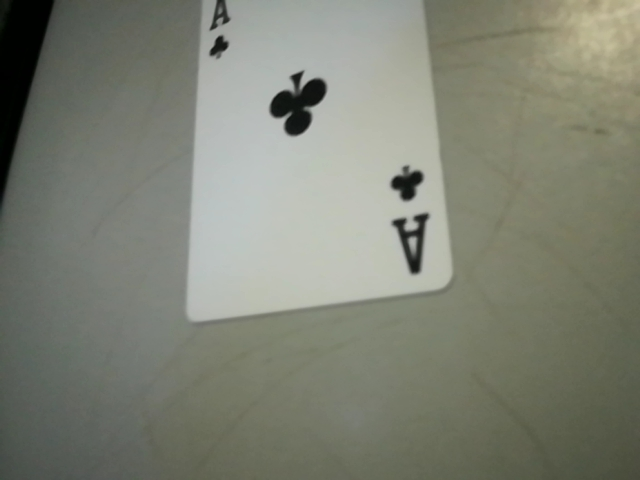mh a: (373, 152, 447, 290)
